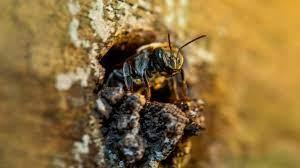Meliponula: (98, 30, 198, 96)
